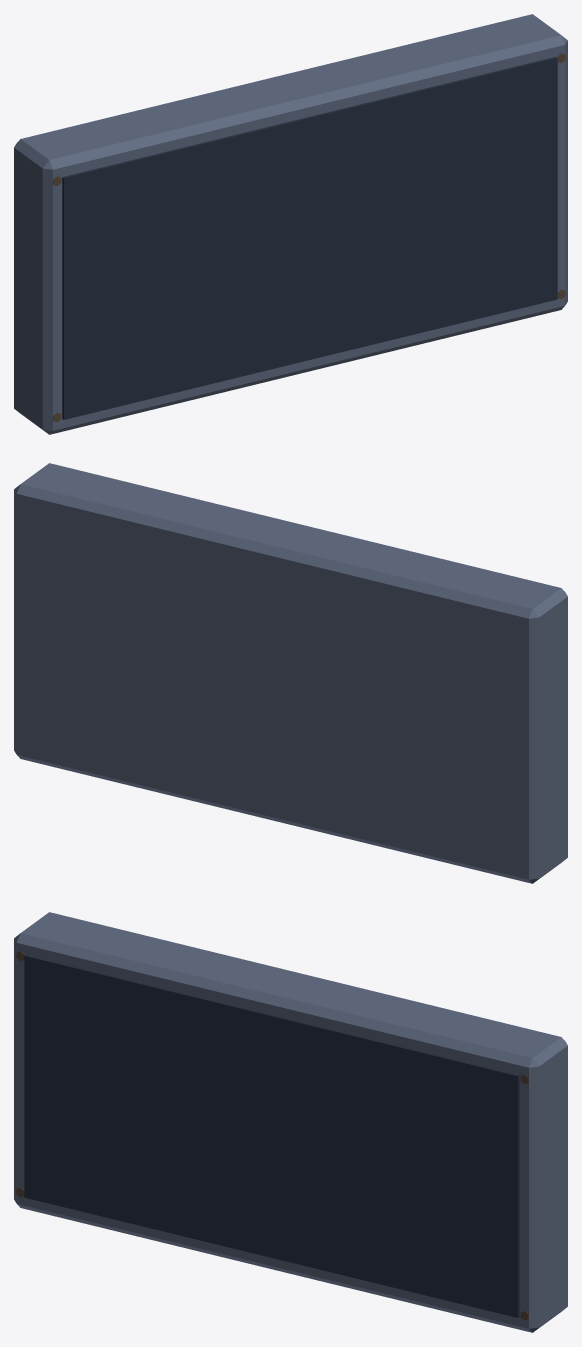
File: city_sign_box.glb
3 renders of one model, top to bottom at view 1: azimuth 30°, elevation 25°; view 2: azimuth 150°, elevation 25°; view 3: azimuth 330°, elevation 25°, orthographic.
Visible parts, largest first — view 1: sign_face, housing; view 2: housing; view 3: sign_face, housing.
Boxes of the visible parts, x1,y1,x2,y2 form: sign_face: (62,56,557,419); housing: (14,14,567,434); housing: (14,463,567,883); sign_face: (24,954,519,1317); housing: (14,912,567,1332).
Size of the model in its own units: 2 by 1 by 0.25.
